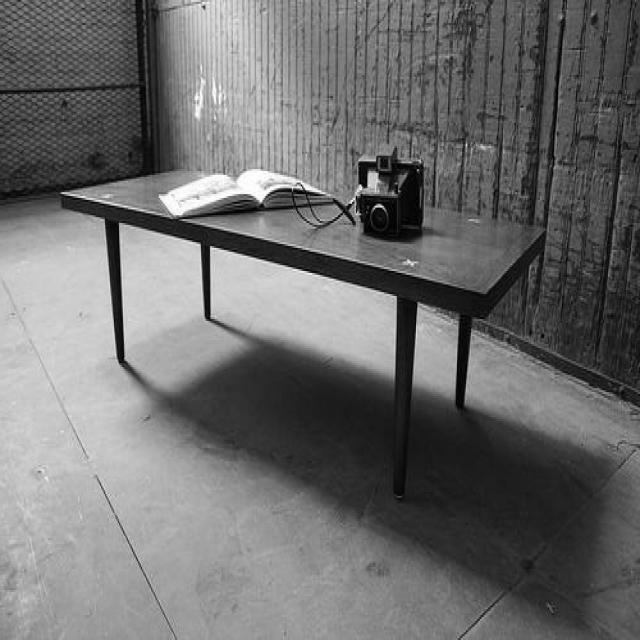table: (62, 164, 546, 496)
